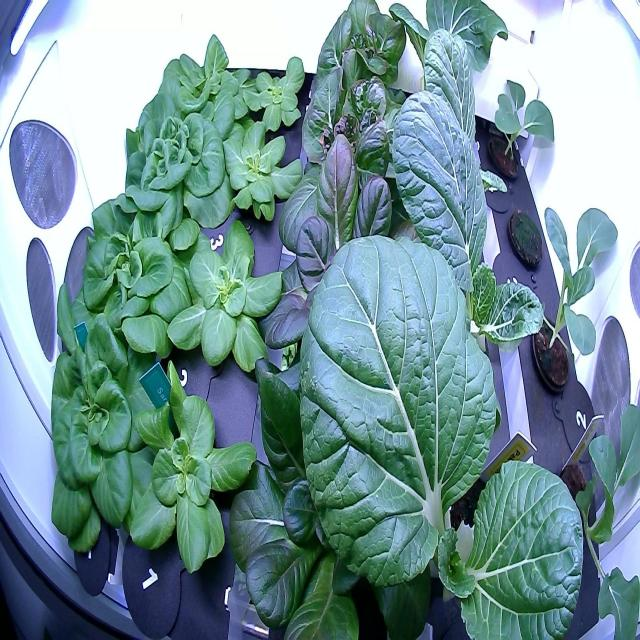young: (35, 280, 175, 570), (124, 356, 260, 584), (54, 188, 216, 374), (105, 94, 249, 250), (162, 214, 290, 384), (149, 30, 254, 140), (212, 111, 310, 228), (238, 47, 314, 136)
